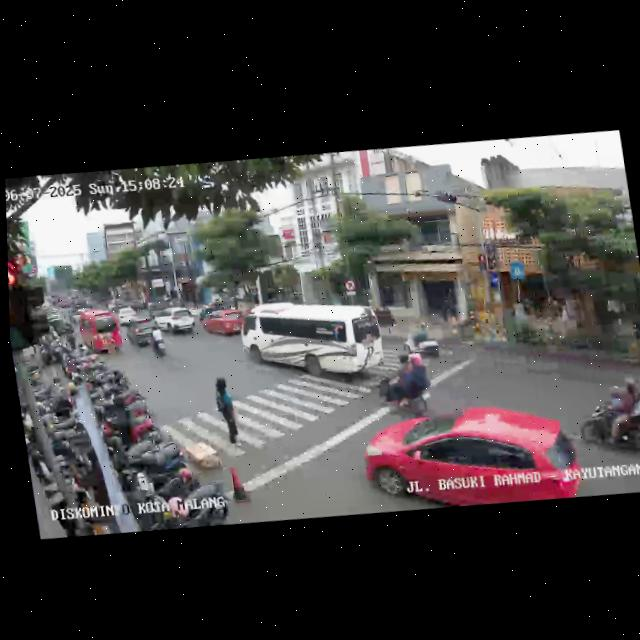car: (357, 389, 587, 522), (239, 291, 384, 389), (72, 305, 124, 360), (200, 305, 248, 342), (151, 303, 198, 339), (126, 318, 161, 348)
motorcycle: (571, 376, 640, 464), (370, 348, 437, 421), (396, 317, 445, 366), (146, 322, 169, 359)
person: (209, 371, 243, 451)
